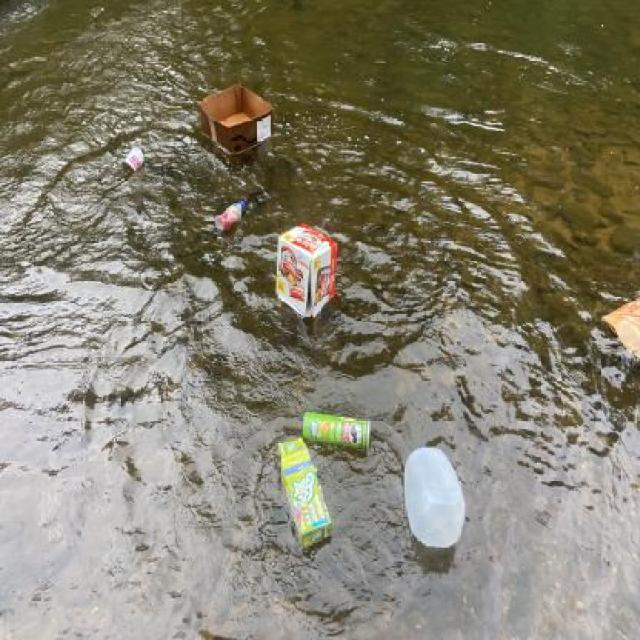Can-Metal: (296, 408, 381, 458), (117, 142, 151, 178)
Cardboard: (274, 432, 337, 556), (270, 216, 342, 324), (193, 77, 282, 158)
Paper: (598, 287, 640, 368)
Plastic: (398, 439, 471, 556), (210, 195, 252, 238)
